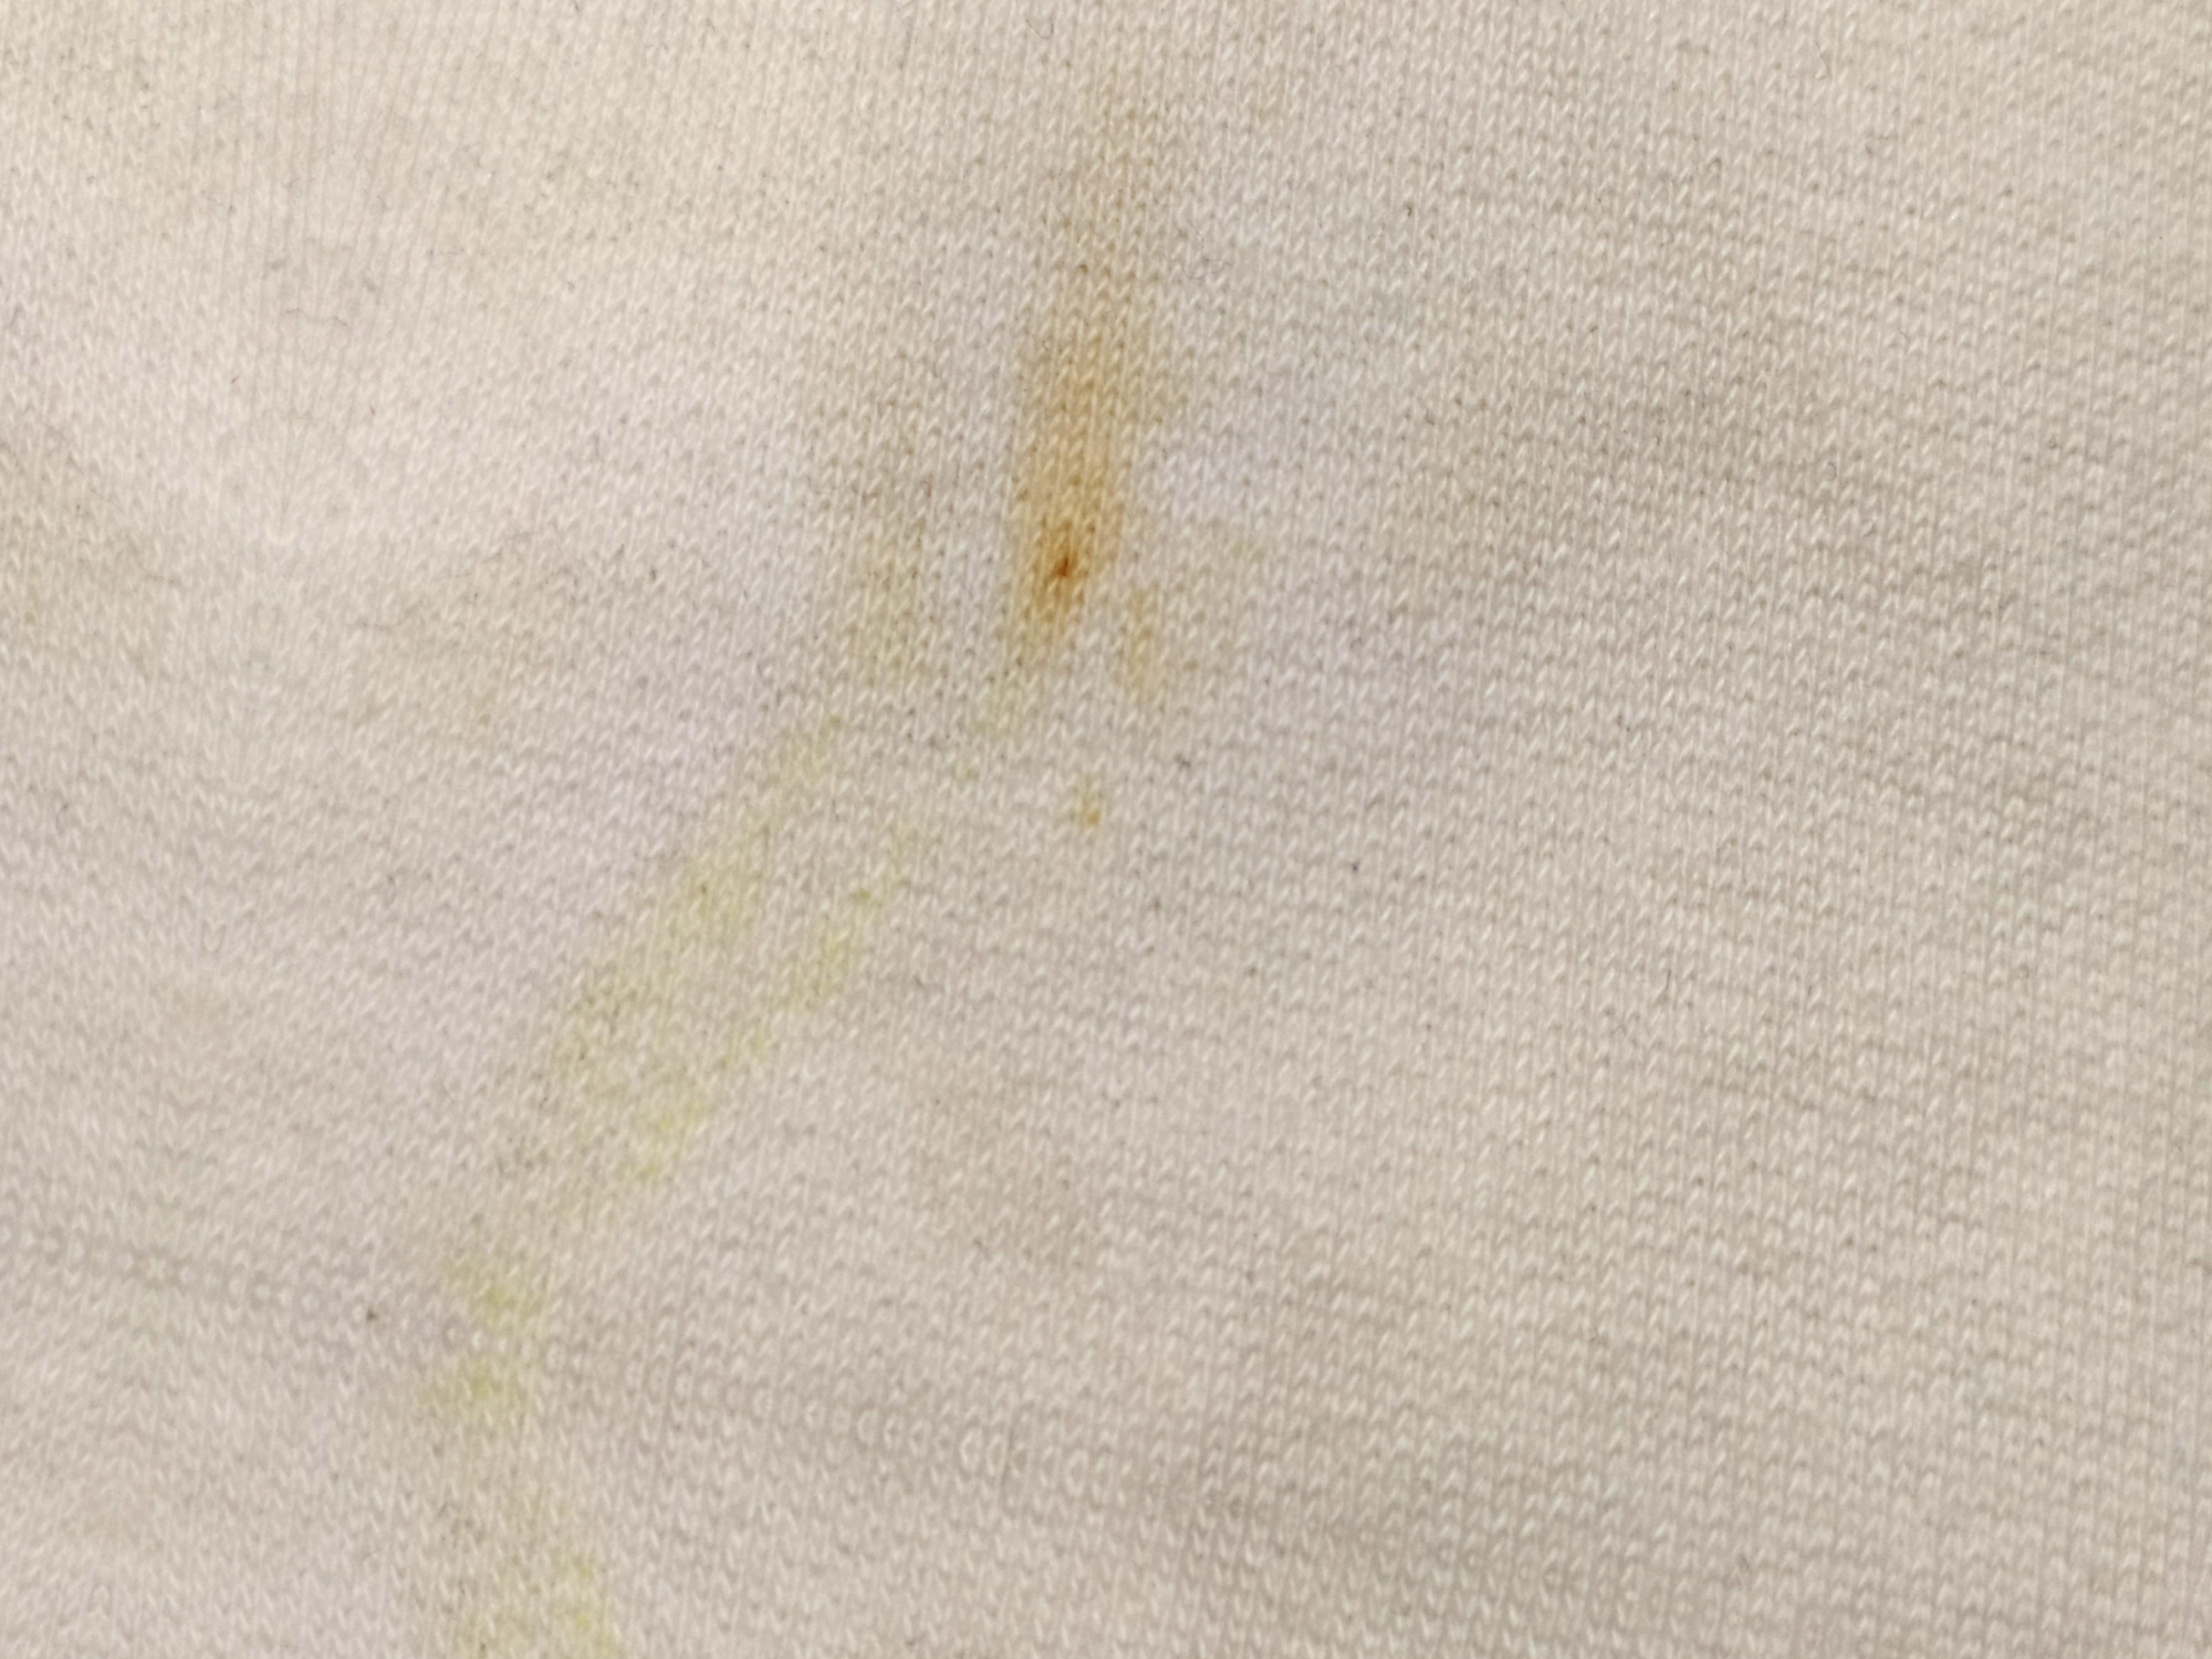stain: (981, 253, 1150, 695)
